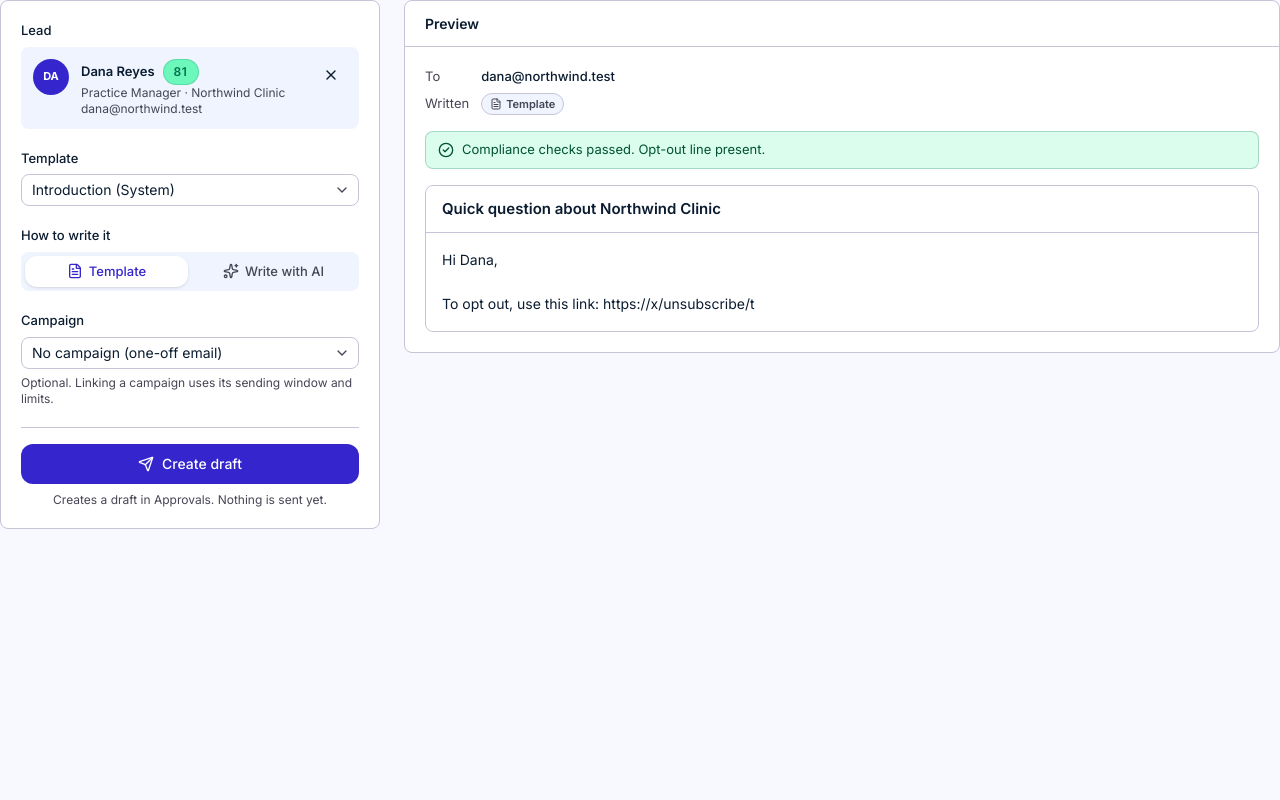
Test: EmailStudio › only previews AI drafts on request and shows why AI is unavailable
Expected: the heading "Quick question about Northwind Clinic" is shown, [426,186,1258,233]
Click the radio button labelled "Write with AI".
click(273, 271)  # box [223,262,324,279]
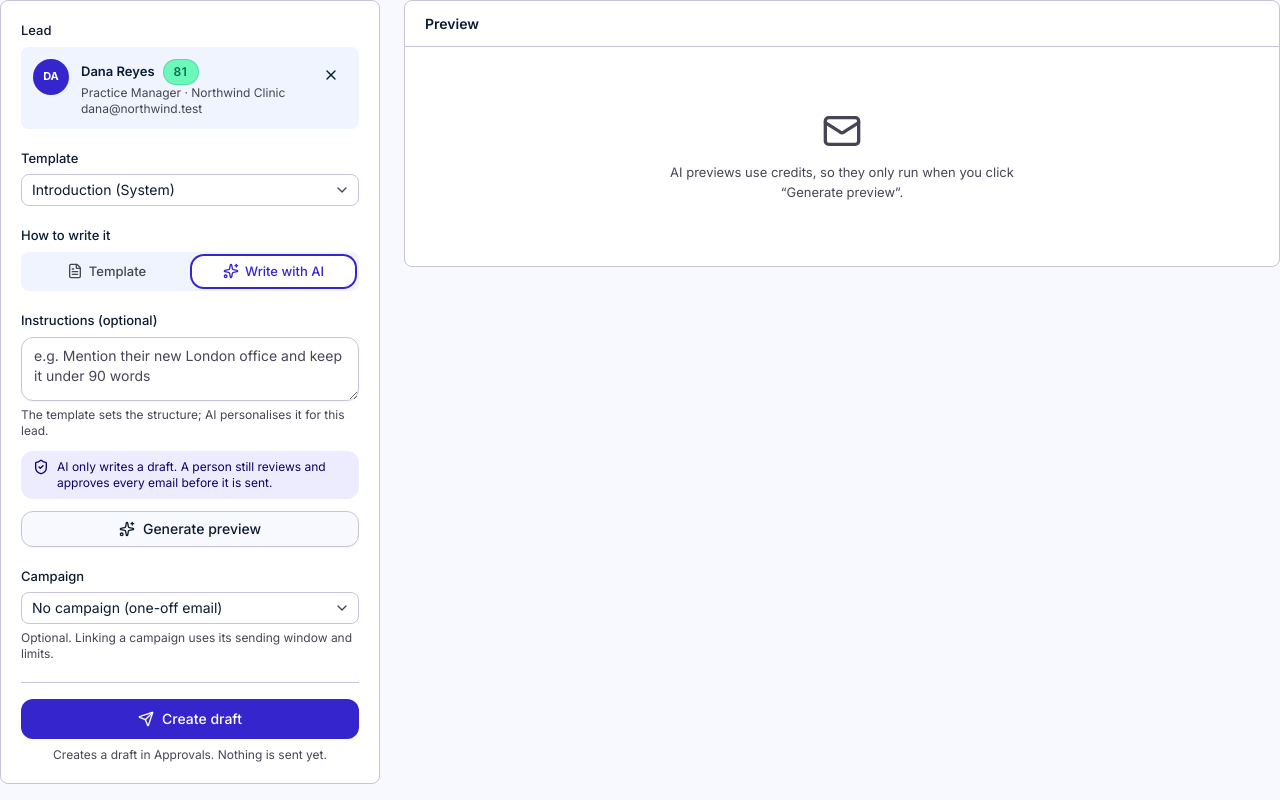
Result: the text "A person still reviews and approves every email" is shown at [57,458,326,490]
Click the button "Generate preview".
click(190, 528)  # box [21,510,359,546]
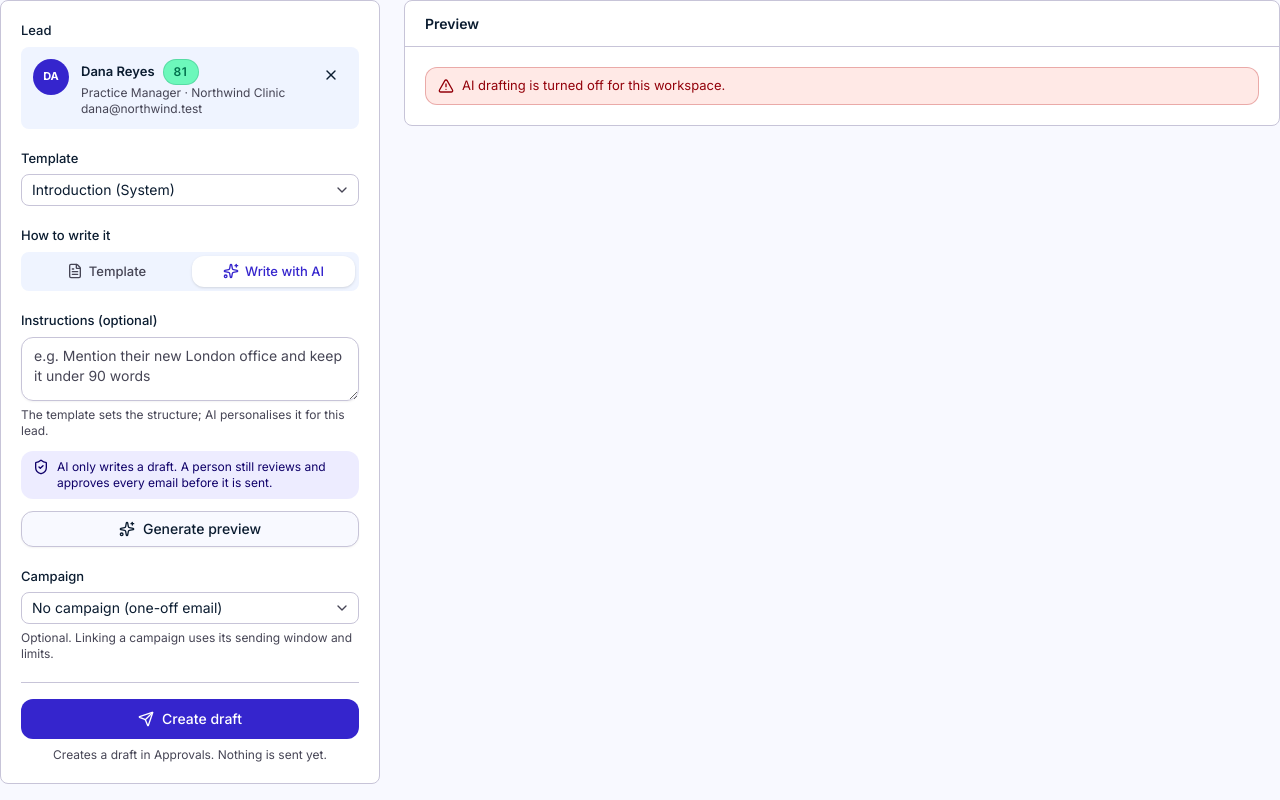
Result: the text "AI drafting is turned off for this workspace." is shown at [425,67,1259,104]
